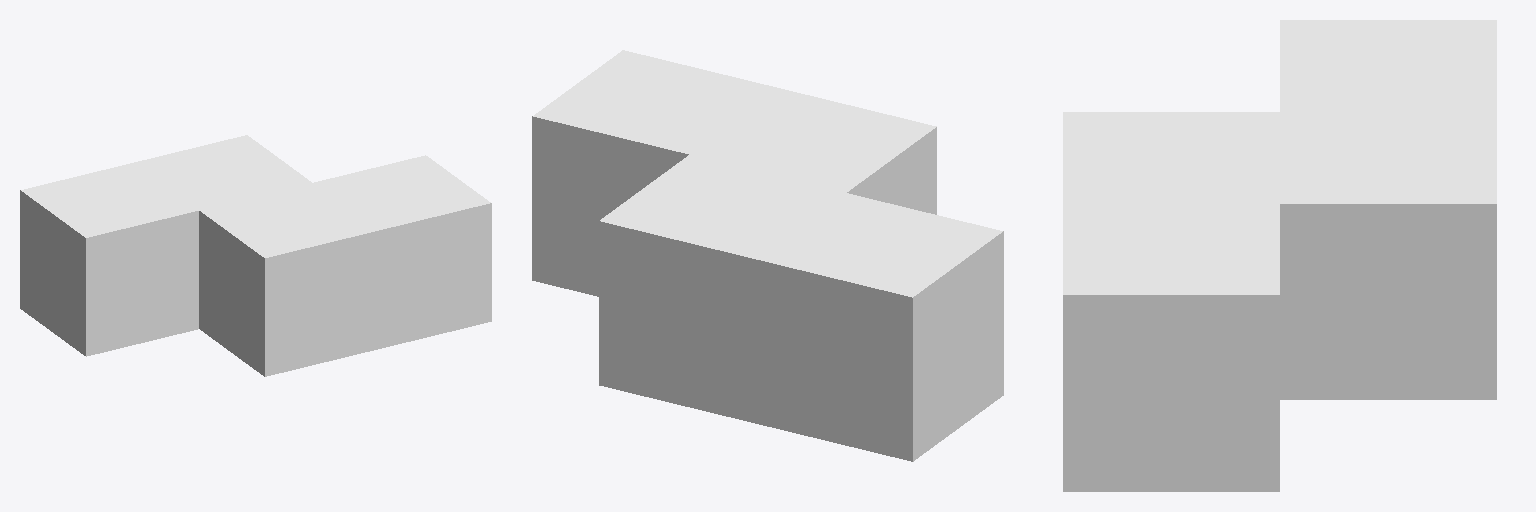
robot.urdf — S.urdf:
<?xml version="0.0" ?>
<robot name="S.urdf">
  <link name="baseLink">
    <contact>
      <lateral_friction value="0.8"/>
      <rolling_friction value="0.001"/>
      <contact_cfm value="0.0"/>
      <contact_erp value="1.0"/>
    </contact>
    <inertial>
    <origin rpy="0 0 0" xyz="0.0 0.0 0.0"/>
       <mass value=".1"/>
       <inertia ixx="1e-3" ixy="0" ixz="0" iyy="1e-3" iyz="0" izz="1e-3"/>
    </inertial>
    <visual>
      <origin xyz="0 0 0" rpy="0 0 0"/>
      <geometry>
        <mesh filename="S.obj" scale="1 1 1"/>
      </geometry>
      <material name="white">
        <color rgba="1. 1. 1. 1."/>
      </material>
    </visual>
    <collision>
      <origin xyz="0 0 0" rpy="0 0 0"/>
      <geometry>
        <mesh filename="S.obj" scale="1 1 1"/>
      </geometry>
    </collision>
  </link>
</robot>

--- What the picture shows (computed from the rendered views, not written in the file) ---
The picture shows the robot from 3 angles, left to right: view 1: azimuth 30°, elevation 25°; view 2: azimuth 150°, elevation 25°; view 3: azimuth 270°, elevation 25°; orthographic projection.
Model S.urdf with 1 links and 0 joints (none), rooted at baseLink, posed all joints at 0.
Links seen in each view (by area): view 1: baseLink; view 2: baseLink; view 3: baseLink.
Link boxes in pixels (x1=…): baseLink: x1=20, y1=135, x2=491, y2=376; baseLink: x1=532, y1=50, x2=1003, y2=461; baseLink: x1=1063, y1=20, x2=1496, y2=491.
Size in the robot's own frame: 0.15 by 0.1 by 0.05 metres.
1 mesh visuals loaded from 1 distinct referenced files (1 OBJ).